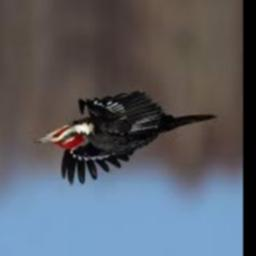Woodpecker: (32, 91, 216, 186)
